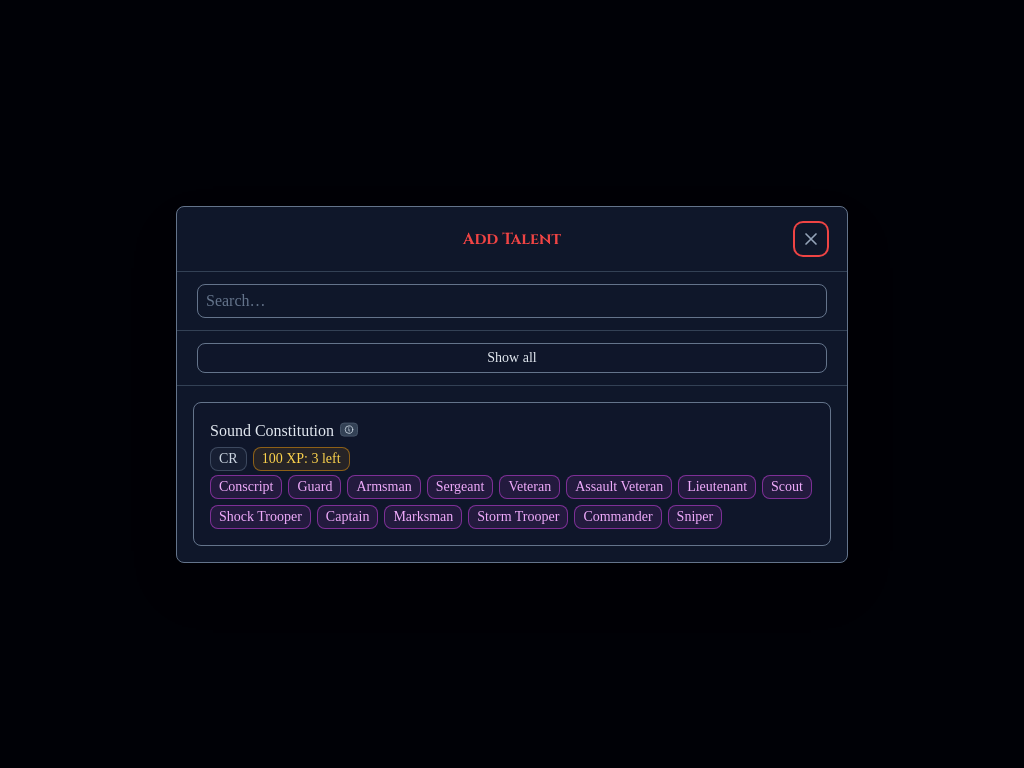
Test case: TalentPickerModal, career-aware overflow screen › reveals everything, including off-career talents, on the overflow screen
The width and height of the screenshot is (1024, 768).
Click the button "Show all".
click(512, 358)  # box x1=197 y1=342 x2=827 y2=372
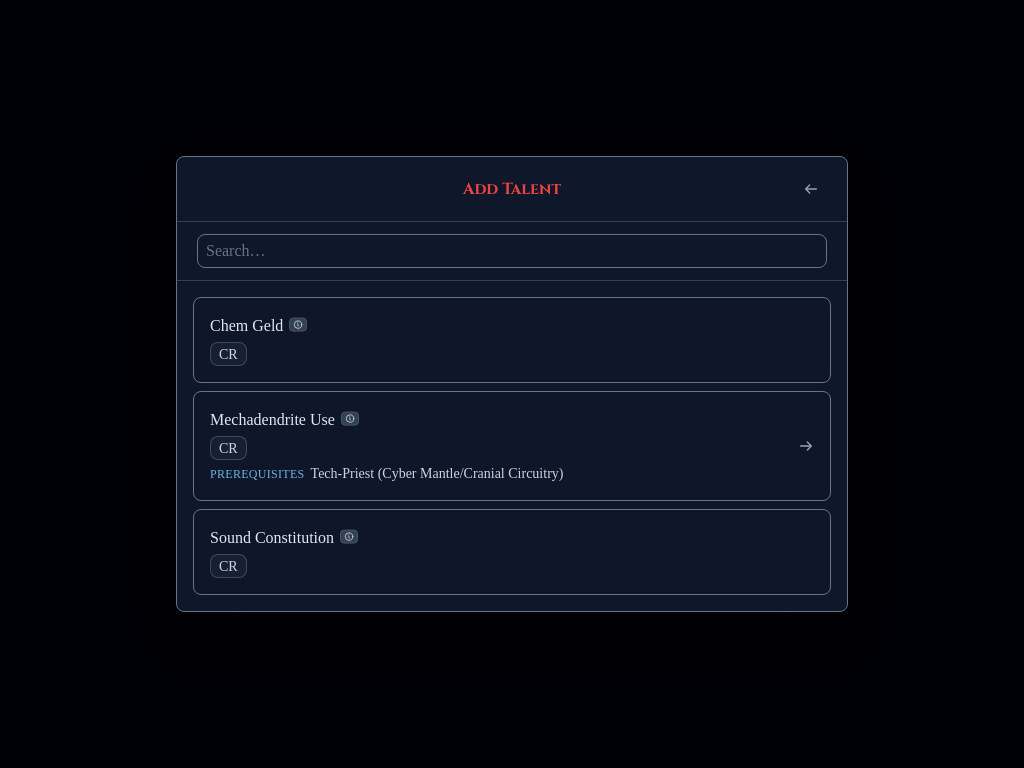
Expected: the text "Sound Constitution" is shown, x1=210 y1=526 x2=334 y2=550
Result: the text "Mechadendrite Use" is shown at x1=210 y1=408 x2=335 y2=432
